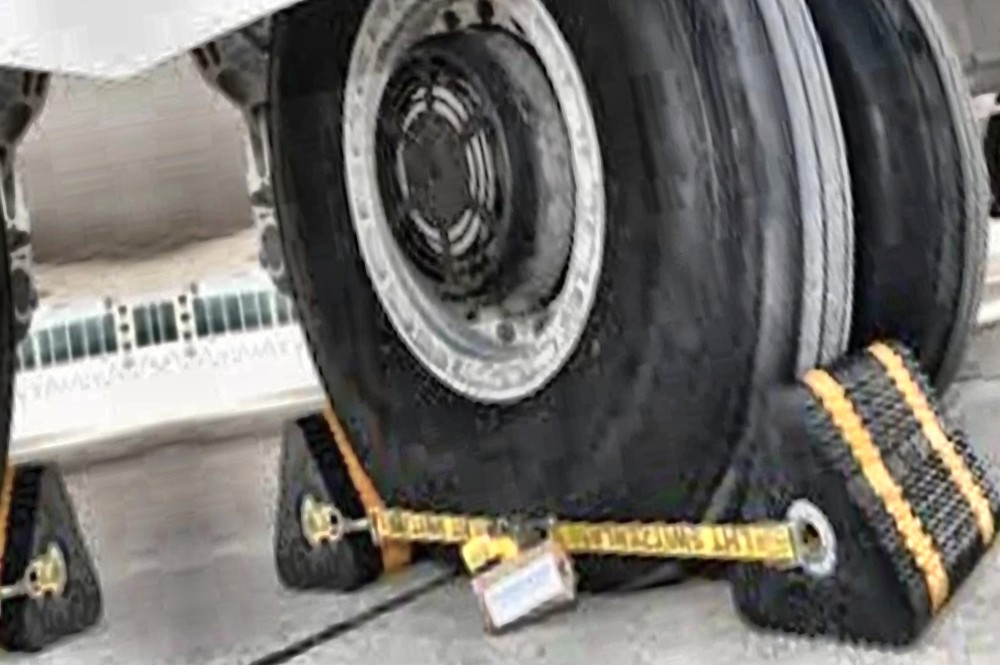chock: (677, 320, 1000, 665), (250, 396, 394, 603), (0, 447, 114, 659)
wheel: (204, 0, 963, 621), (729, 0, 1000, 412)
